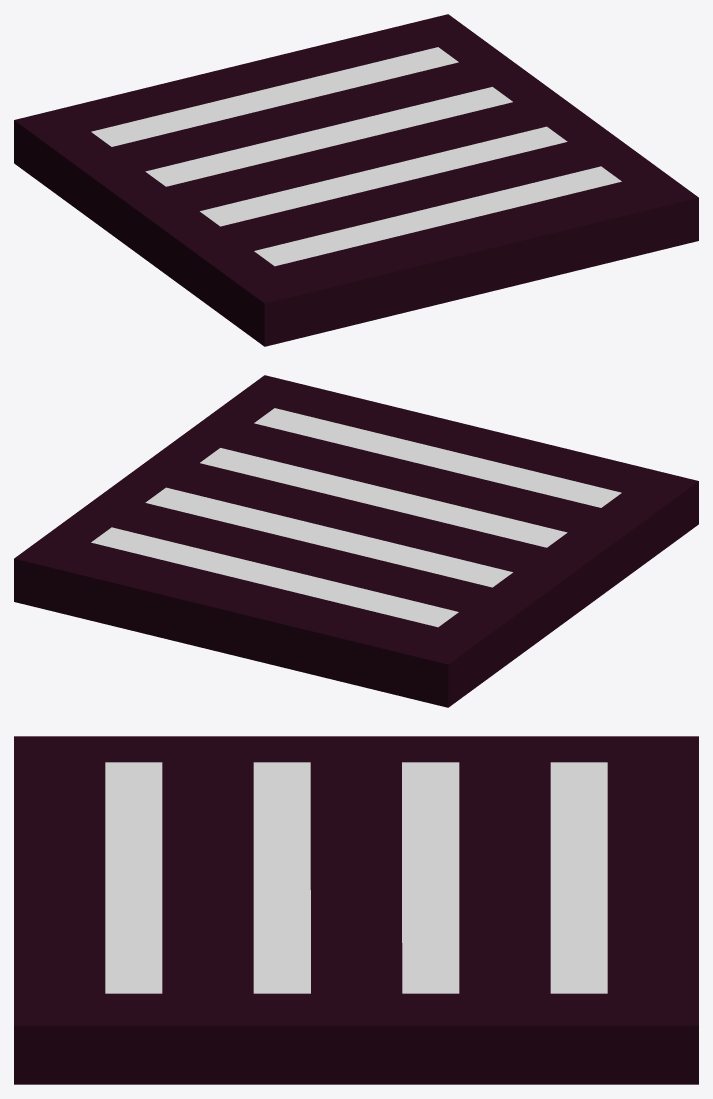
File: przejscie_pieszych.fbx
The picture shows the model from 3 angles, top to bottom: view 1: azimuth 30°, elevation 25°; view 2: azimuth 150°, elevation 25°; view 3: azimuth 270°, elevation 25°; orthographic projection. The views are drawn at different scales.
Parts seen in each view (by area): view 1: Zebra.001; view 2: Zebra.001; view 3: Zebra.001.
Part boxes in pixels (bbox=[...]): Zebra.001: bbox=[14, 14, 698, 346]; Zebra.001: bbox=[14, 375, 698, 707]; Zebra.001: bbox=[14, 736, 698, 1084].
Size of the model in its own units: 200 by 200 by 20.
